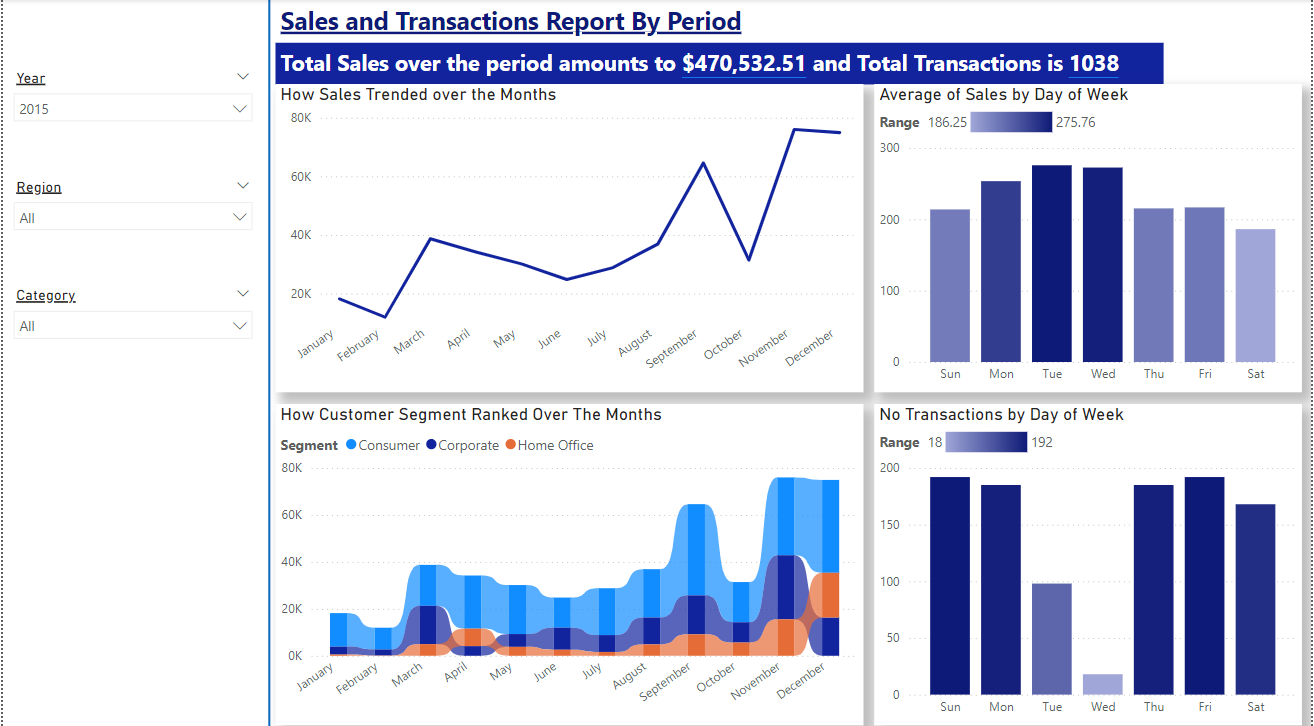

Layout of this report page (visuals, bound fields, positions):
{"tool":"powerbi","page":{"name":"Periodic Report","canvas":[1280,720],"ordinal":0},"visuals":[{"type":"shape","box":[253.9,0,12.3,720.4],"z":0},{"type":"textbox","box":[266.2,0,484.4,42.5],"z":1000},{"type":"textbox","box":[266.2,42.5,868.6,41.2],"z":2000},{"type":"lineChart","title":"How Sales Trended over the Months","fields":{"Y":["Sum(Orders.Sales)"],"Category":["Orders.Order Date.Variation.Date Hierarchy.Month"]},"box":[266.2,83.7,575,301.9],"z":3000},{"type":"ribbonChart","title":"How Customer Segment Ranked Over The Months","fields":{"Y":["Sum(Orders.Sales)"],"Category":["Orders.Order Date.Variation.Date Hierarchy.Month"],"Series":["Orders.Segment"]},"box":[266.2,396.6,575,314.2],"z":4000},{"type":"columnChart","title":"Average of Sales by Day of Week","fields":{"Y":["Avg(Orders.Sales)"],"Category":["Orders.Day Name"]},"box":[852.1,83.7,418.5,301.9],"z":5000},{"type":"columnChart","title":"No Transactions by Day of Week","fields":{"Category":["Orders.Day Name"],"Y":["Count(Orders.Order ID)"]},"box":[852.1,396.6,418.5,314.2],"z":6000},{"type":"slicer","fields":{"Values":["Orders.Order Date.Variation.Date Hierarchy.Year"]},"box":[0,63.1,253.9,83.7],"z":7000},{"type":"slicer","fields":{"Values":["Orders.Region"]},"box":[0,169.5,253.9,83.7],"z":8000},{"type":"slicer","fields":{"Values":["Orders.Category"]},"box":[0,275.8,253.9,83.7],"z":9000}]}

Visuals, with their boxes in screenshot pixels (x1, y1, x2, y2), scaled from the page's 1280x720 canvas onto the 1314x726 screenshot:
shape: 261, 0, 273, 725
textbox: 273, 0, 771, 43
textbox: 273, 43, 1165, 84
"How Sales Trended over the Months" lineChart: 273, 84, 864, 389
"How Customer Segment Ranked Over The Months" ribbonChart: 273, 400, 864, 717
"Average of Sales by Day of Week" columnChart: 875, 84, 1304, 389
"No Transactions by Day of Week" columnChart: 875, 400, 1304, 717
slicer - Orders.Order Date.Variation.Date Hierarchy.Year: 0, 64, 261, 148
slicer - Orders.Region: 0, 171, 261, 255
slicer - Orders.Category: 0, 278, 261, 362
